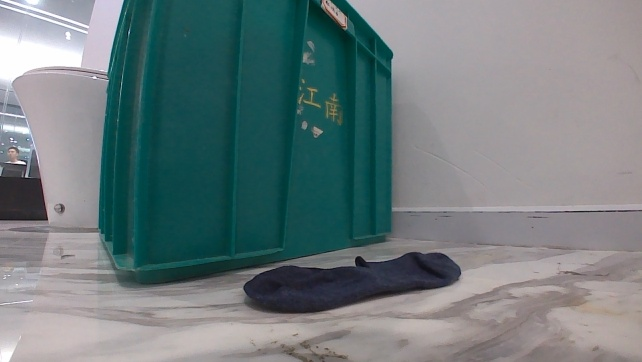socks: (240, 247, 464, 315)
toilet: (9, 61, 108, 230)
